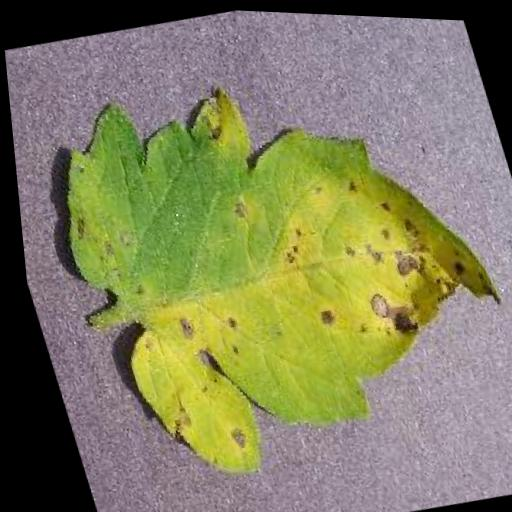Septoria: (15, 28, 512, 501)
